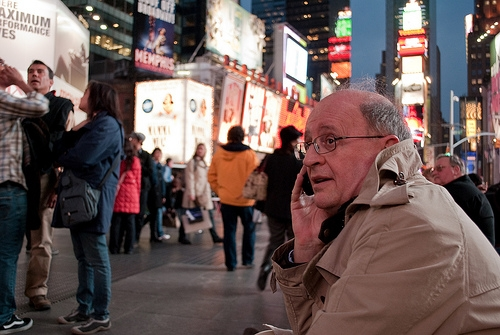phone: (290, 154, 318, 197)
